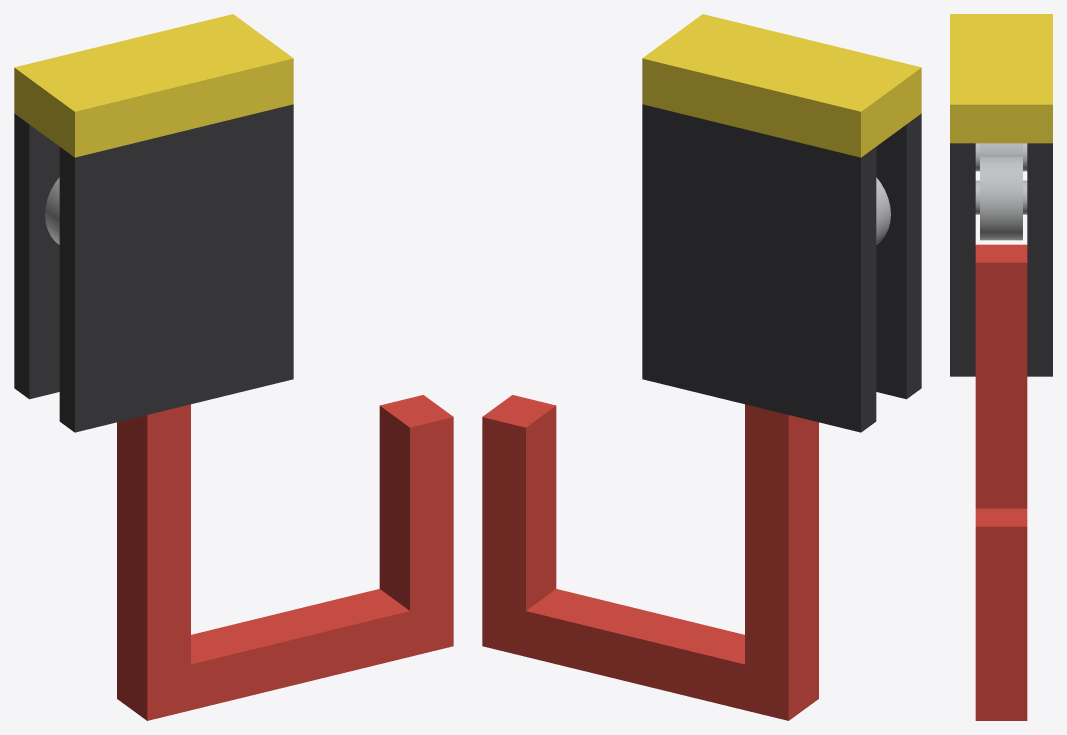
The model's file is tower_hook.glb.
3 views of the same model, side by side, from view 1: azimuth 30°, elevation 25°; view 2: azimuth 150°, elevation 25°; view 3: azimuth 270°, elevation 25° (orthographic). The views are drawn at different scales.
Parts seen in each view (by area): view 1: cheek_s, hook_j, crossbar, cheek_n, sheave_a; view 2: cheek_n, hook_j, crossbar, cheek_s, sheave_a; view 3: hook_j, crossbar, cheek_s, cheek_n, sheave_b, sheave_a.
Part boxes in pixels (box(x1,y1,x2,y2)): cheek_s: box(59, 104, 293, 432); hook_j: box(117, 395, 453, 720); crossbar: box(14, 14, 293, 157); cheek_n: box(14, 113, 59, 399); sheave_a: box(45, 177, 59, 244); cheek_n: box(642, 104, 876, 432); hook_j: box(482, 395, 818, 720); crossbar: box(642, 14, 921, 157); cheek_s: box(876, 113, 921, 399); sheave_a: box(876, 177, 890, 244); hook_j: box(975, 244, 1027, 720); crossbar: box(950, 14, 1052, 143); cheek_s: box(950, 143, 975, 376); cheek_n: box(1027, 143, 1052, 376); sheave_b: box(975, 155, 1027, 240); sheave_a: box(975, 143, 1027, 171).
Bounding box in the file's own units: 0.9 × 1.4 × 0.24.
